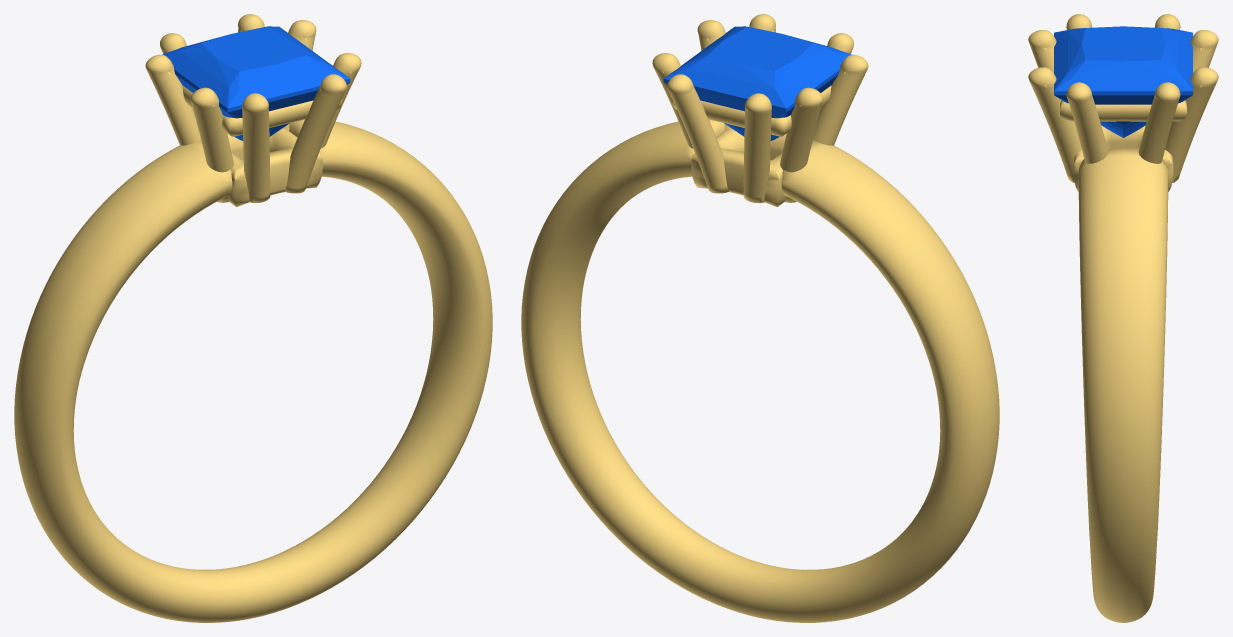
File: bluesapphire-princess-yellowgold-8prong-taperedband-solitaire.glb
The picture shows the model from 3 angles, left to right: view 1: azimuth 30°, elevation 25°; view 2: azimuth 150°, elevation 25°; view 3: azimuth 270°, elevation 25°; orthographic projection.
Visible parts, largest first — view 1: metal, stone; view 2: metal, stone; view 3: metal, stone.
Boxes of the visible parts, <box> form: metal: <box>14,14,492,622</box>; stone: <box>162,26,350,140</box>; metal: <box>521,14,999,622</box>; stone: <box>663,26,851,140</box>; metal: <box>1028,14,1218,622</box>; stone: <box>1054,26,1192,137</box>.
Size of the model in its own units: 20.5 by 23.85 by 7.42.
